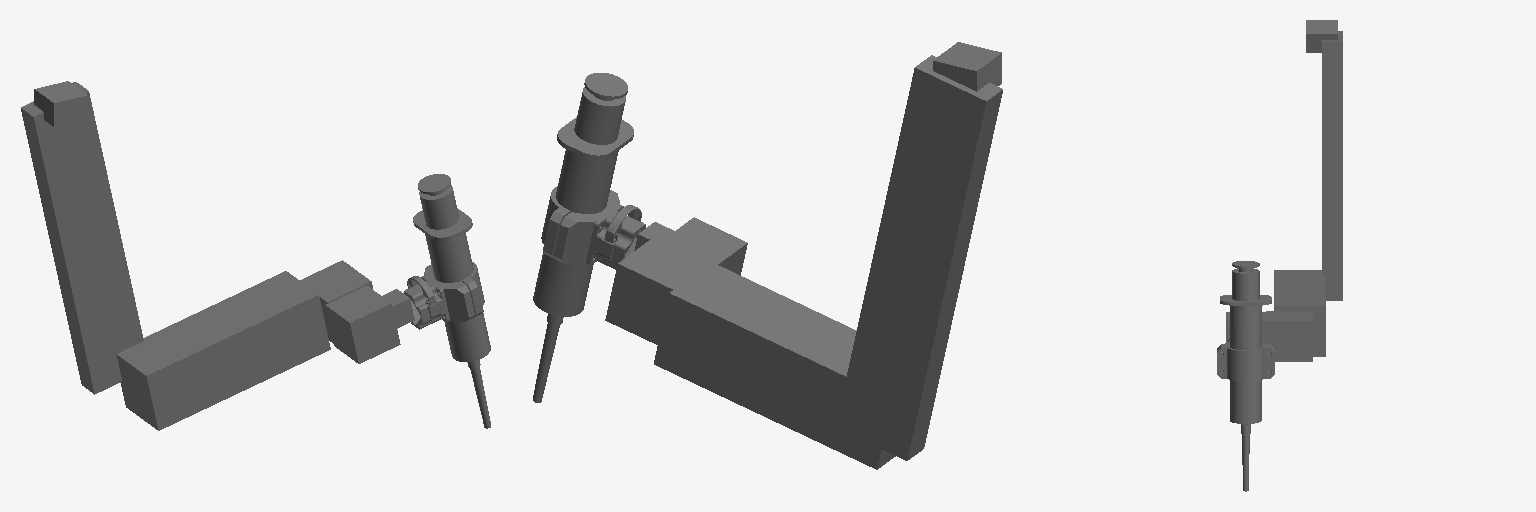
robot.urdf — Robot:
<?xml version="1.0" encoding="UTF-8"?>
<robot name="Robot">
    <link name="base">
        <inertial>
            <mass value="0"/>
            <inertia ixx="0" ixy="0" ixz="0" iyy="0" iyz="0" izz="0"/>
        </inertial>
    </link>
    <link name="base_link_prismatic">
        <inertial>
            <origin rpy="0.00000000 0.00000000 0.00000000" xyz="0.00000000 0.00000000 0.00000000"/>
            <mass value="1.00000000"/>
            <inertia ixx="1.00000000" ixy="0.00000000" ixz="0.00000000" iyy="1.00000000" iyz="0.00000000" izz="1.00000000"/>
        </inertial>
        <visual>
            <origin rpy="3.14159265 0.00000000 0.00000000" xyz="0.00000000 0.00000000 0.170000"/>
            <geometry>
                <mesh filename="Basis_V5_scaled.stl" scale="0.00100000 0.00100000 0.0010000"/>
            </geometry>
            <material name="">
                <color rgba="0.50000000 0.50000000 0.50000000 1.00000000"/>
            </material>
        </visual>
        <collision>
            <origin rpy="0.00000000 0.00000000 0.00000000" xyz="0.00000000 0.00000000 0.50000000"/>
            <geometry>
                <mesh filename="Basis_V5_scaled.stl" scale="0.001000000 0.00100000 0.00100000"/>
            </geometry>
        </collision>
    </link>
    <link name="link1">
        <inertial>
            <origin rpy="0.00000000 0.00000000 0.00000000" xyz="0.00000000 0.00000000 0.00000000"/>
            <mass value="1.00000000"/>
            <inertia ixx="0.20000000" ixy="0.00000000" ixz="0.00000000" iyy="0.10000000" iyz="0.00000000" izz="0.20000000"/>
        </inertial>
        <visual>
            <origin rpy="0.00000000 0.00000000 0.00000000" xyz="0.00000000 0.00000000 0.00000000"/>
            <geometry>
                <box size="0.03000000 0.0300000 0.02000000"/>
            </geometry>
            <material name="">
                <color rgba="0.50000000 0.50000000 0.50000000 1.00000000"/>
            </material>
        </visual>
        <collision>
            <origin rpy="0.00000000 0.00000000 0.00000000" xyz="0.00000000 0.00000000 0.0000000"/>
            <geometry>
                <box size="0.09000000 0.09000000 0.02000000"/>
            </geometry>
        </collision>
    </link>
    <link name="link2">
        <inertial>
            <origin rpy="0.00000000 0.00000000 0.00000000" xyz="0.00000000 0.00000000 0.00000000"/>
            <mass value="1.00000000"/>
            <inertia ixx="0.20000000" ixy="0.00000000" ixz="0.00000000" iyy="0.10000000" iyz="0.00000000" izz="0.20000000"/>
        </inertial>
        <visual>
            <origin rpy="0.00000000 0.00000000 0.00000000" xyz="0.12615000  0.00000000 0.010000"/>
            <geometry>
                <box size="0.25230000  0.05000000 0.0200000"/>
            </geometry>
            <material name="">
                <color rgba="0.50000000 0.50000000 0.50000000 1.00000000"/>
            </material>
        </visual>
        <collision>
            <origin rpy="0.00000000 0.00000000 0.00000000" xyz="0.12615000  0.00000000 0.01"/>
            <geometry>
                <box size="0.25230000  0.05000000 0.0200000"/>
            </geometry>
        </collision>
    </link>
    <link name="link3">
        <inertial>
            <origin rpy="0.00000000 0.00000000 0.00000000" xyz="0.00000000 0.00000000 0.00000000"/>
            <mass value="1.00000000"/>
            <inertia ixx="0.20000000" ixy="0.00000000" ixz="0.00000000" iyy="0.10000000" iyz="0.00000000" izz="0.20000000"/>
        </inertial>
        <visual>
            <origin rpy="0.00000000 0.00000000 0.00000000" xyz="0.00000000 -0.07780000  0.01000000"/>
            <geometry>
                <box size="0.05000000 0.15560000  0.05000000"/>
            </geometry>
            <material name="">
                <color rgba="0.50000000 0.50000000 0.50000000 1.00000000"/>
            </material>
        </visual>
        <collision>
            <origin rpy="0.00000000 0.00000000 0.00000000" xyz="0.00000000 -0.07780000  0.01000000"/>
            <geometry>
                <box size="0.05000000 0.15560000  0.05000000"/>
            </geometry>
        </collision>
    </link>
    <link name="link4">
        <inertial>
            <origin rpy="0.00000000 0.00000000 0.00000000" xyz="0.00000000 0.00000000 0.00000000"/>
            <mass value="1.00000000"/>
            <inertia ixx="0.20000000" ixy="0.00000000" ixz="0.00000000" iyy="0.10000000" iyz="0.00000000" izz="0.20000000"/>
        </inertial>
        <visual>
            <origin rpy="0.00000000 0.00000000 0.00000000" xyz="0.00000000 0 0.02225000 "/>
            <geometry>
                <box size="0.04000000 0.04450000 0.04000000"/>
            </geometry>
            <material name="">
                <color rgba="0.50000000 0.50000000 0.50000000 1.00000000"/>
            </material>
        </visual>
        <collision>
            <origin rpy="0.00000000 0.00000000 0.00000000" xyz="0.00000000 0.00000000 0.02225000 "/>
            <geometry>
                <box size="0.04000000 0.04450000 0.04000000"/>
            </geometry>
        </collision>
    </link>
    <link name="link5">
        <inertial>
            <origin rpy="0.00000000 0.00000000 0.00000000" xyz="0.00000000 0.00000000 0.00000000"/>
            <mass value="1.00000000"/>
            <inertia ixx="0.20000000" ixy="0.00000000" ixz="0.00000000" iyy="0.10000000" iyz="0.00000000" izz="0.20000000"/>
        </inertial>
        <visual>
            <origin rpy="0.00000000 0.00000000 0.00000000" xyz="0  0  0.0188"/>
            <geometry>
                <box size="0.03760000  0.037600000  0.03760000"/>
            </geometry>
            <material name="">
                <color rgba="0.50000000 0.50000000 0.50000000 1.00000000"/>
            </material>
        </visual>
        <collision>
            <origin rpy="0.00000000 0.00000000 0.00000000" xyz="0.00000000 0 0.0188"/>
            <geometry>
                <box size="0.03760000  0.03760000  0.03760000"/>
            </geometry>
        </collision>
    </link>
    <link name="link6">
        <inertial>
            <origin rpy="0.00000000 0.00000000 0.00000000" xyz="0.00000000 0.00000000 0.00000000"/>
            <mass value="1.00000000"/>
            <inertia ixx="0.20000000" ixy="0.00000000" ixz="0.00000000" iyy="0.10000000" iyz="0.00000000" izz="0.20000000"/>
        </inertial>
        <visual>
            <origin rpy="0.00000000 0.00000000 0.00000000" xyz="0.00000000 0.00000000 0.01000000"/>
            <geometry>
                <box size="0.02000000 0.02000000 0.02000000"/>
            </geometry>
            <material name="">
                <color rgba="0.50000000 0.50000000 0.50000000 1.00000000"/>
            </material>
        </visual>
        <collision>
            <origin rpy="0.00000000 0.00000000 0.00000000" xyz="0.00000000 0.00000000 0.01000000"/>
            <geometry>
                <box size="0.02000000 0.02000000 0.02000000"/>
            </geometry>
        </collision>
    </link>
    <link name="tool">
        <inertial>
            <origin rpy="0.00000000 0.00000000 0.00000000" xyz="0.00000000 0.00000000 0.00000000"/>
            <mass value="1.00000000"/>
            <inertia ixx="1.00000000" ixy="0.00000000" ixz="0.00000000" iyy="1.00000000" iyz="0.00000000" izz="1.00000000"/>
        </inertial>
        <visual>
            <origin rpy="-1.57079633  0.00000000  0.00000000" xyz="0.00000000  0.00000000 -0.11800000"/>
            <geometry>
                <mesh filename="SIEM_Spritze.stl" scale="0.001000000 0.001000000 0.001000000"/>
            </geometry>
            <material name="">
                <color rgba="0.50000000 0.50000000 0.50000000 1.00000000"/>
            </material>
        </visual>
        <collision>
            <origin rpy="-1.57079633  0.00000000  0.00000000" xyz="0.00000000  0.00000000 -0.11800000"/>
            <geometry>
                <mesh filename="SIEM_Spritze.stl" scale="0.001000000 0.001000000 0.001000000"/>
            </geometry>
        </collision>
    </link>
    <joint name="base_slide" type="prismatic">
        <parent link="base"/>
        <child link="base_link_prismatic"/>
        <origin rpy="3.14159265 0.00000000 0.00000000" xyz="0.00000000 0.18000000 0.84000000"/>
        <axis xyz="1.00000000 0.00000000 0.00000000"/>
        <limit lower="0.00000000" upper="2.27000000" effort="0" velocity="0"/>
    </joint>
    <joint name="joint1" type="revolute">
        <parent link="base_link_prismatic"/>
        <child link="link1"/>
        <origin rpy="3.14159231 0.00000000 0.00000000" xyz="0.00000000 0.00000000 0.17000000"/>
        <axis xyz="0.00000000 0.00000000 1.00000000"/>
        <limit lower="-0.8713" upper="2.45744" effort="0" velocity="0"/>
    </joint>
    <joint name="joint2" type="revolute">
        <parent link="link1"/>
        <child link="link2"/>
        <origin rpy="-1.57079600  0.00000000  0.00000000" xyz="0.00000000 0.00000000 0.00000000"/>
        <axis xyz="0.00000000 0.00000000 1.00000000"/>
        <limit lower="0.20249" upper="2.50805569" effort="0" velocity="0"/>
    </joint>
    <joint name="joint3" type="revolute">
        <parent link="link2"/>
        <child link="link3"/>
        <origin rpy="0.00000000 0.00000000 0.00000000" xyz="0.25230000  0.00000000 -0.03100000"/>
        <axis xyz="0.00000000 0.00000000 1.00000000"/>
        <limit lower="-1.57079632679" upper="3.38396645" effort="0" velocity="0"/>
    </joint>
    <joint name="joint4" type="revolute">
        <parent link="link3"/>
        <child link="link4"/>
        <origin rpy="1.57079600 0.00000000 0.00000000" xyz="0.00000000 -0.15560000  0.00000000"/>
        <axis xyz="0.00000000 0.00000000 1.00000000"/>
        <limit lower="-2.06320596" upper="1.23639119" effort="0" velocity="0"/>
    </joint>
    <joint name="joint5" type="revolute">
        <parent link="link4"/>
        <child link="link5"/>
        <origin rpy="1.57079600 0.00000000 0.00000000" xyz="0 -0.0225 0.0188"/>
        <axis xyz="0.00000000 0.00000000 1.00000000"/>
        <limit lower="-3.66773963" upper="1.34376383" effort="0" velocity="0"/>
    </joint>
    <joint name="joint6" type="revolute">
        <parent link="link5"/>
        <child link="link6"/>
        <origin rpy="-1.57079600  0.00000000  0.00000000" xyz="0  0.018800  0.01880000"/>
        <axis xyz="0.00000000 0.00000000 1.00000000"/>
        <limit lower="-1.45881605" upper="2.77343297" effort="0" velocity="0"/>
    </joint>
    <joint name="tool_joint" type="fixed">
        <parent link="link6"/>
        <child link="tool"/>
        <origin rpy="0.00000000 1.57079633 0.00000000" xyz="0.14000000 0.00000000 0.06500000"/>
         <axis xyz="0.00000000 0.00000000 0.00000000"/>
    </joint>
</robot>

--- Render facts (derived) ---
3 views of the same robot in one strip: view 1: azimuth 30°, elevation 25°; view 2: azimuth 150°, elevation 25°; view 3: azimuth 270°, elevation 25° (orthographic).
Robot: Robot — 9 links, 8 joints (6 revolute, 1 prismatic, 1 fixed); root link base; default pose: all joints at 0 but 1 set to mid-range because 0 is outside their limits (joint2 = 1.36).
Links seen in each view (by area): view 1: link3, link2, tool, link5, link1, link4, link6; view 2: link2, link3, tool, link4, link5, link1; view 3: tool, link2, link3, link4, link1.
Link boxes in pixels (box(x1,y1,x2,y2)): link3: box(116, 271, 330, 430); link2: box(21, 82, 143, 394); tool: box(404, 174, 490, 428); link5: box(325, 286, 400, 363); link1: box(34, 81, 87, 126); link4: box(300, 260, 372, 343); link6: box(382, 289, 414, 328); link2: box(836, 55, 1002, 460); link3: box(654, 262, 895, 469); tool: box(533, 73, 645, 402); link4: box(605, 236, 710, 344); link5: box(664, 217, 747, 275); link1: box(933, 42, 1001, 91); tool: box(1217, 261, 1274, 491); link2: box(1322, 31, 1342, 300); link3: box(1274, 270, 1325, 356); link4: box(1266, 311, 1312, 361); link1: box(1306, 20, 1337, 52).
Size in the robot's own frame: 0.3616 by 0.1197 by 0.3313 metres.
2 mesh visuals loaded from 2 distinct referenced files (2 binary STL).
